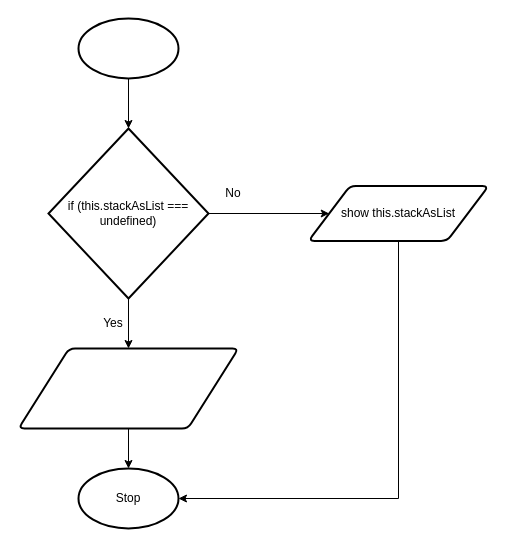
The diagram is 506 pixels wide and 546 high, and some of its shapes have lost their labels. Here are the shapes that lost their labels. From the top down, the centre of each, then its label:
point (128, 48): Start
point (128, 388): show "Nothing in the list!"
